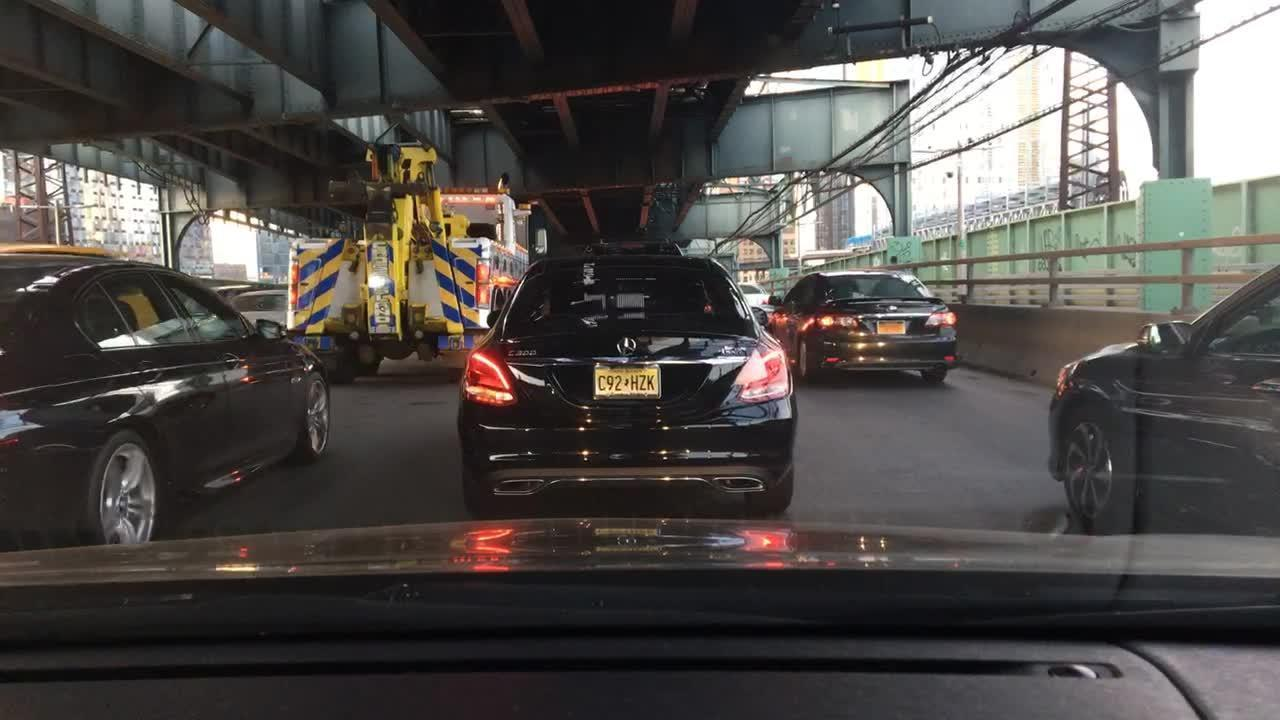Mercedes: (613, 335, 641, 357)
